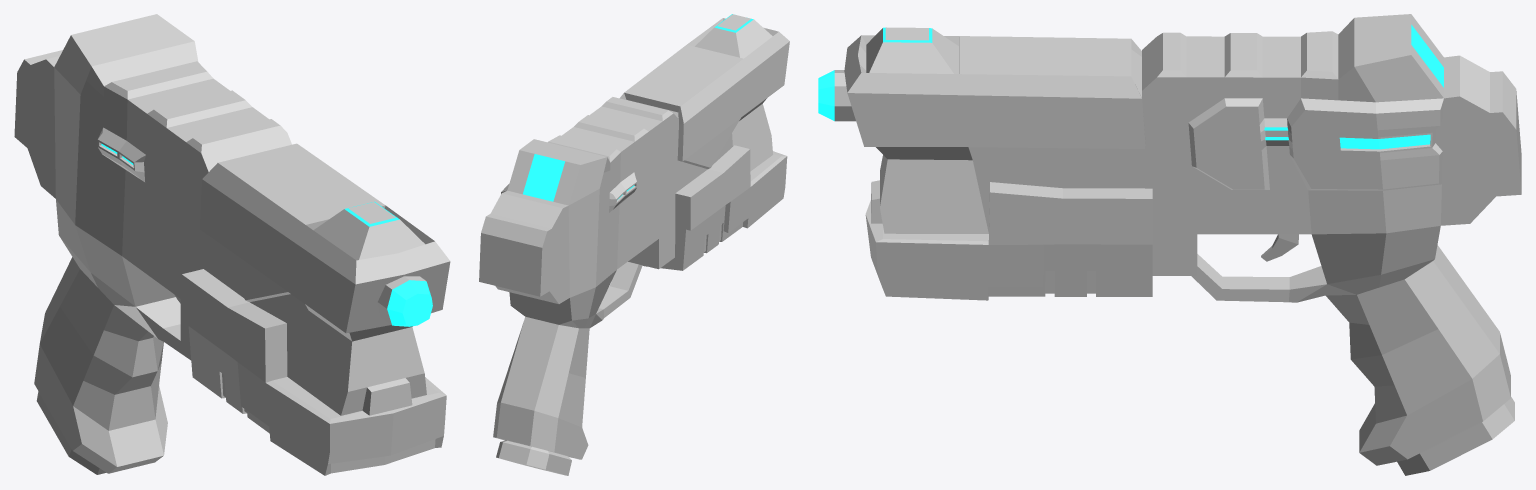
Rendered from EmbersStorm- Free K-39 Pistol.fbx.
3 renders of one model, left to right at view 1: azimuth 30°, elevation 25°; view 2: azimuth 150°, elevation 25°; view 3: azimuth 270°, elevation 25°, orthographic. The views are drawn at different scales.
Parts seen in each view (by area): view 1: Frame, Grip, Magazine; view 2: Frame, Grip, Magazine; view 3: Frame, Grip, Magazine.
Boxes of the visible parts, x1,y1,x2,y2 form: Frame: (14, 14, 450, 473); Grip: (181, 269, 446, 475); Magazine: (36, 391, 106, 474); Frame: (479, 14, 789, 459); Grip: (643, 145, 787, 270); Magazine: (496, 440, 571, 475); Frame: (818, 14, 1521, 465); Grip: (865, 182, 1152, 300); Magazine: (1397, 397, 1514, 475).
Size of the model in its own units: 0.8444 by 2.76 by 4.06.
